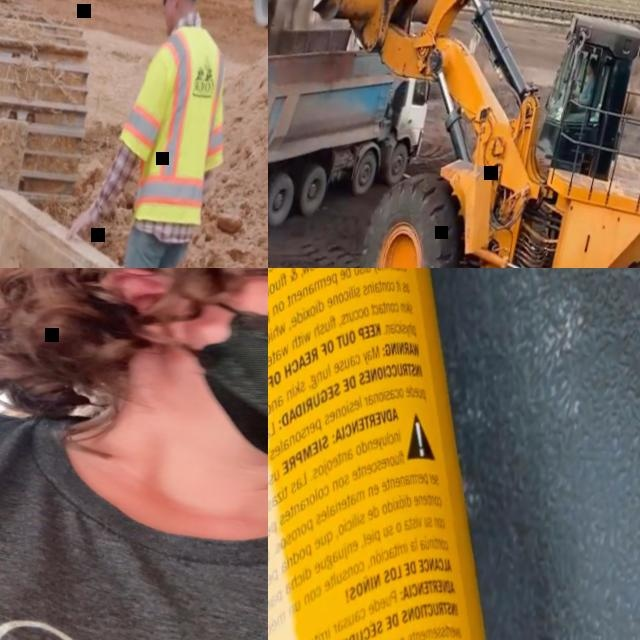Mask: (139, 268, 268, 499)
NO-Hardhat: (587, 56, 596, 66)
NO-Mask: (159, 2, 178, 35), (584, 69, 589, 77)
NO-Safety Vest: (0, 372, 268, 640), (578, 73, 594, 102)
Person: (0, 268, 268, 640), (53, 0, 258, 268), (561, 52, 598, 120)
Safety Vest: (106, 22, 244, 218)
machinery: (268, 0, 640, 268), (268, 0, 445, 258), (0, 0, 124, 221)
